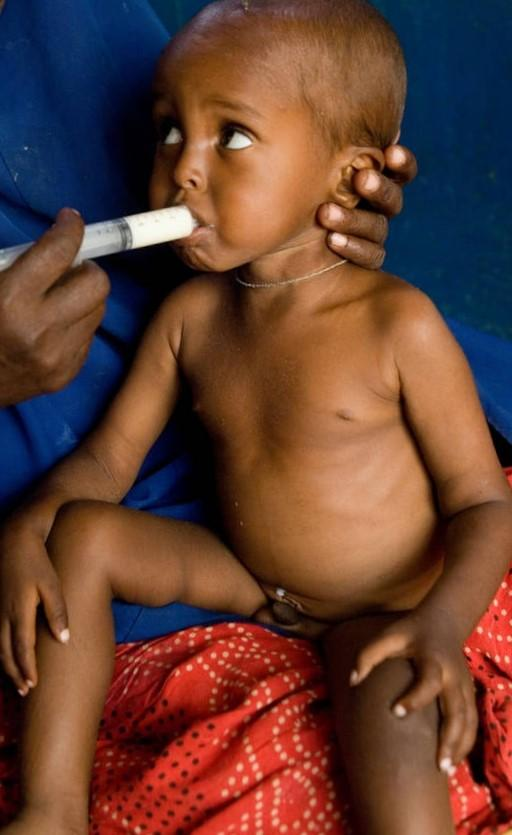Stunting: (102, 18, 458, 324)
